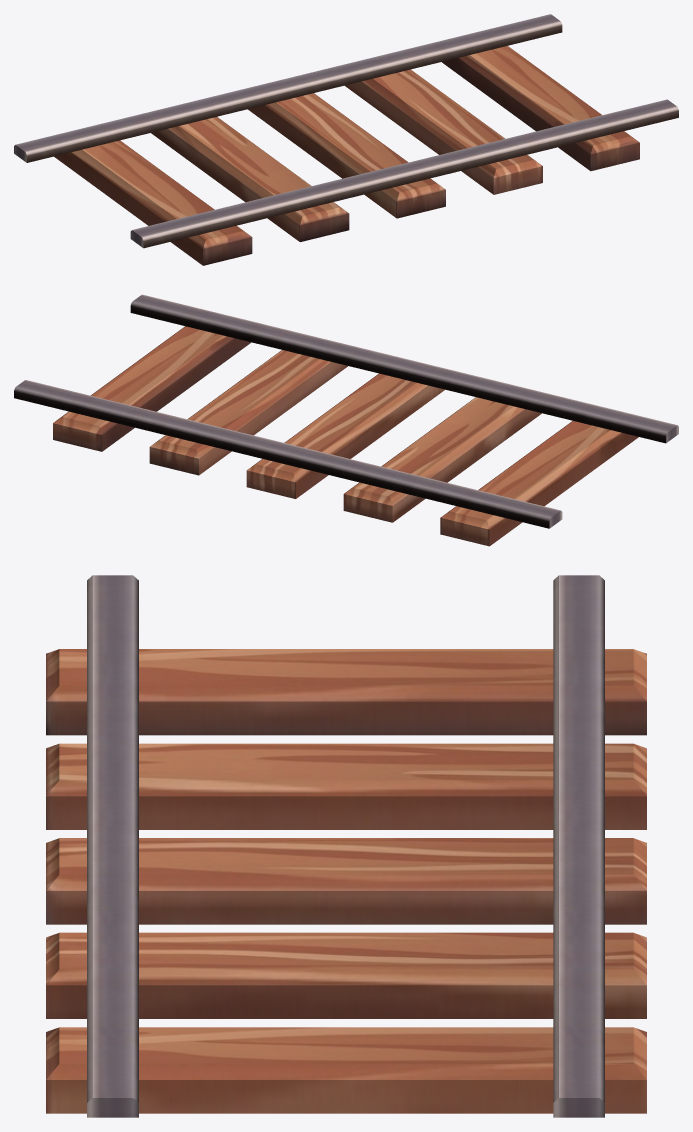
Rendered from EndRail.fbx.
3 renders of one model, top to bottom at view 1: azimuth 30°, elevation 25°; view 2: azimuth 150°, elevation 25°; view 3: azimuth 270°, elevation 25°, orthographic. The views are drawn at different scales.
Parts seen in each view (by area): view 1: EndRail; view 2: EndRail; view 3: EndRail.
Boxes of the visible parts, <box> form: EndRail: <box>14,14,678,265</box>; EndRail: <box>14,294,678,546</box>; EndRail: <box>46,575,646,1117</box>.
Bounding box in the file's own units: 148 × 8.43 × 71.75.
